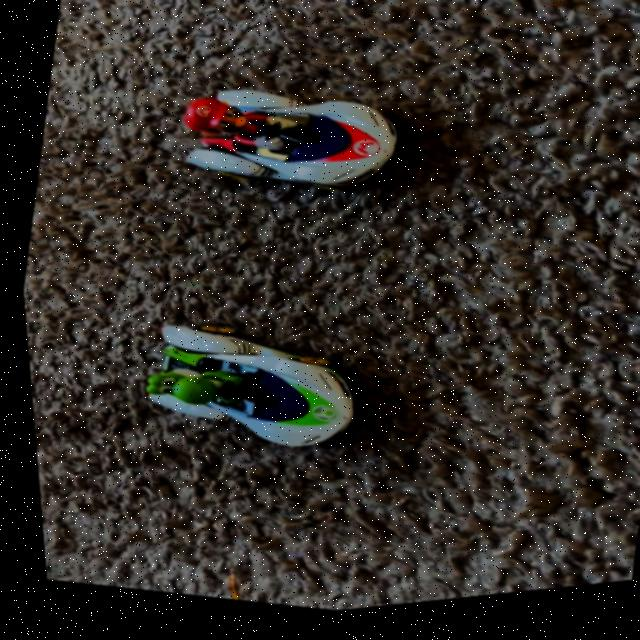mario: (137, 43, 428, 242)
yoshi: (112, 283, 392, 498)
